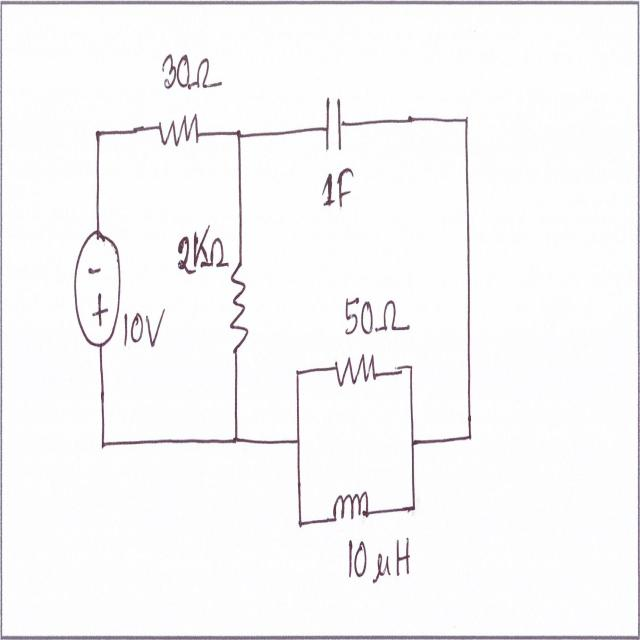capacitor: (322, 94, 345, 156)
inductor: (330, 486, 370, 530)
resistor: (152, 113, 206, 156), (228, 258, 250, 361), (330, 352, 380, 391)
voltage_source: (71, 227, 123, 354)
